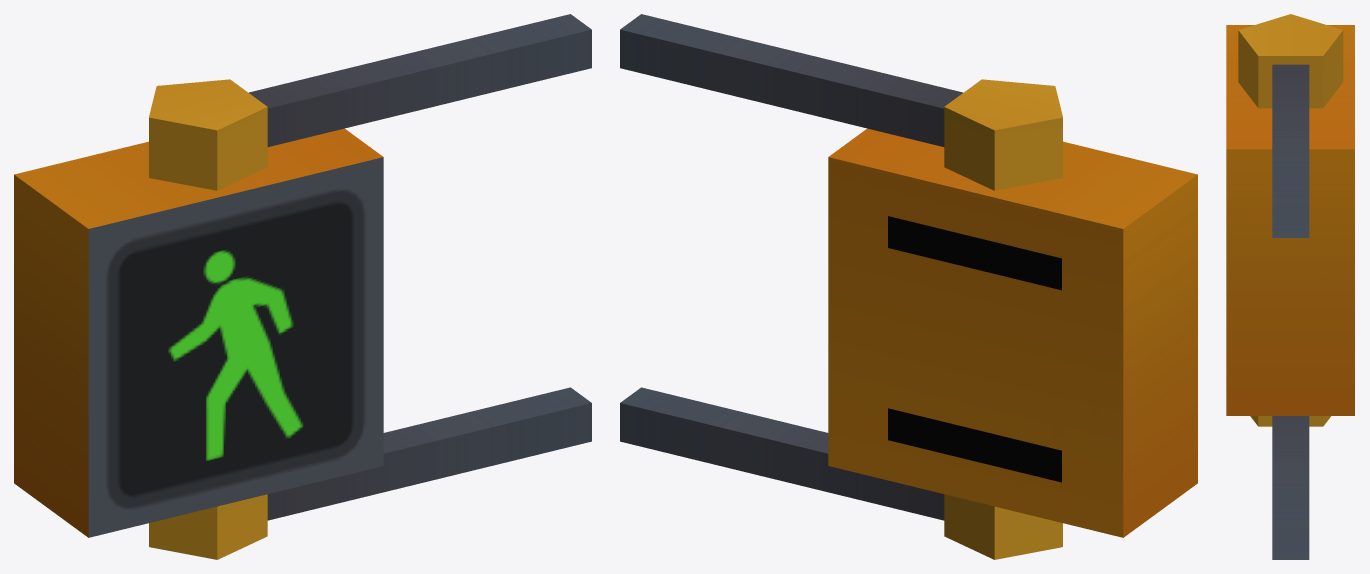
The model's file is SM_Traffic_Light_3A.FBX.
3 views of the same model, side by side, from view 1: azimuth 30°, elevation 25°; view 2: azimuth 150°, elevation 25°; view 3: azimuth 270°, elevation 25° (orthographic). The views are drawn at different scales.
Visible parts, largest first — view 1: SM_Traffic_Light_3A; view 2: SM_Traffic_Light_3A; view 3: SM_Traffic_Light_3A.
Boxes of the visible parts, <box> form: SM_Traffic_Light_3A: <box>14,14,591,559</box>; SM_Traffic_Light_3A: <box>620,14,1197,559</box>; SM_Traffic_Light_3A: <box>1226,14,1354,559</box>.
Size of what is drawn, in the model's own units: 144 by 35.1 by 111.
